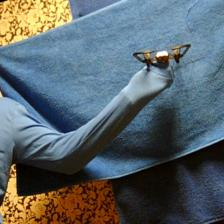drone: (132, 43, 190, 71)
